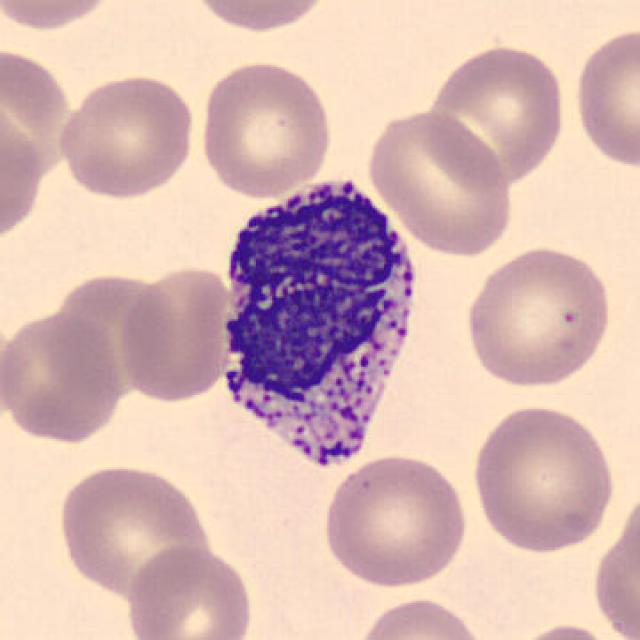Basophil: (206, 162, 430, 492)
RBC: (362, 106, 516, 259), (468, 400, 618, 557), (461, 242, 615, 392), (54, 460, 214, 601), (421, 40, 569, 188), (318, 450, 473, 590), (196, 56, 336, 201), (53, 71, 199, 201), (2, 305, 128, 446), (114, 261, 236, 405), (123, 543, 256, 640), (569, 21, 638, 175), (588, 486, 639, 640), (350, 594, 491, 640), (186, 0, 337, 35), (2, 0, 121, 33), (501, 619, 626, 640)
